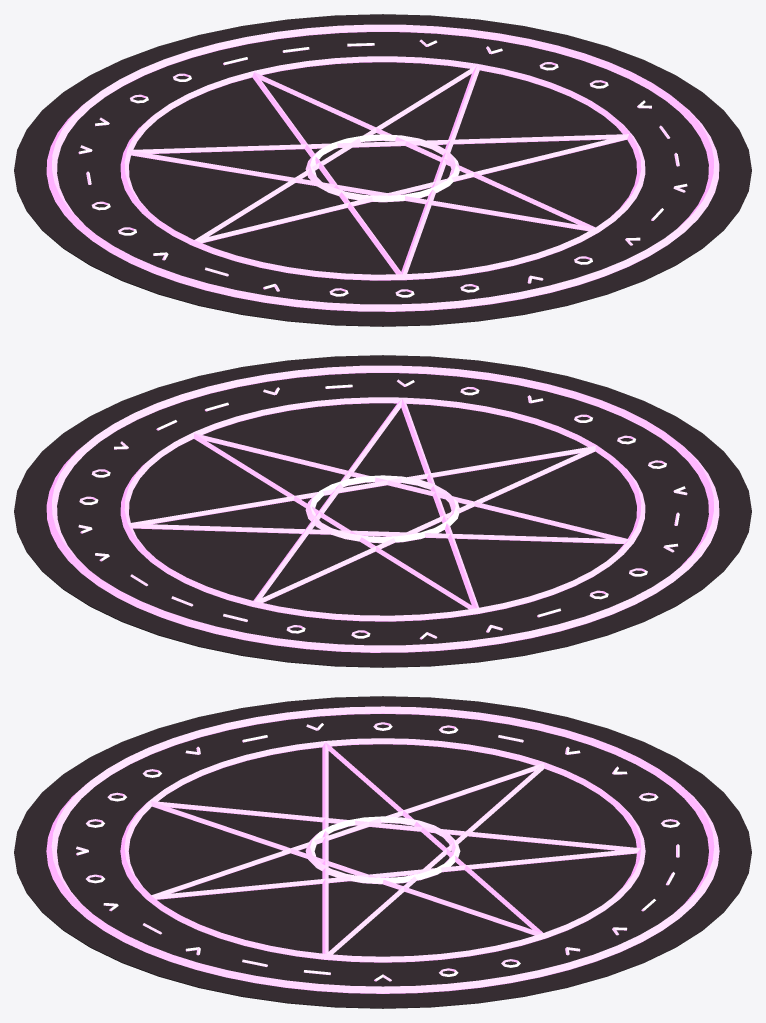
The model's file is summoning_circle.glb.
The picture shows the model from 3 angles, top to bottom: view 1: azimuth 30°, elevation 25°; view 2: azimuth 150°, elevation 25°; view 3: azimuth 270°, elevation 25°; orthographic projection.
Visible parts, largest first — view 1: summoning_circle; view 2: summoning_circle; view 3: summoning_circle.
Boxes of the visible parts, x1=… form: summoning_circle: x1=14, y1=14, x2=751, y2=326; summoning_circle: x1=14, y1=355, x2=751, y2=667; summoning_circle: x1=14, y1=696, x2=751, y2=1008.
Size of the model in its own units: 4.9 by 0.07 by 4.9.
